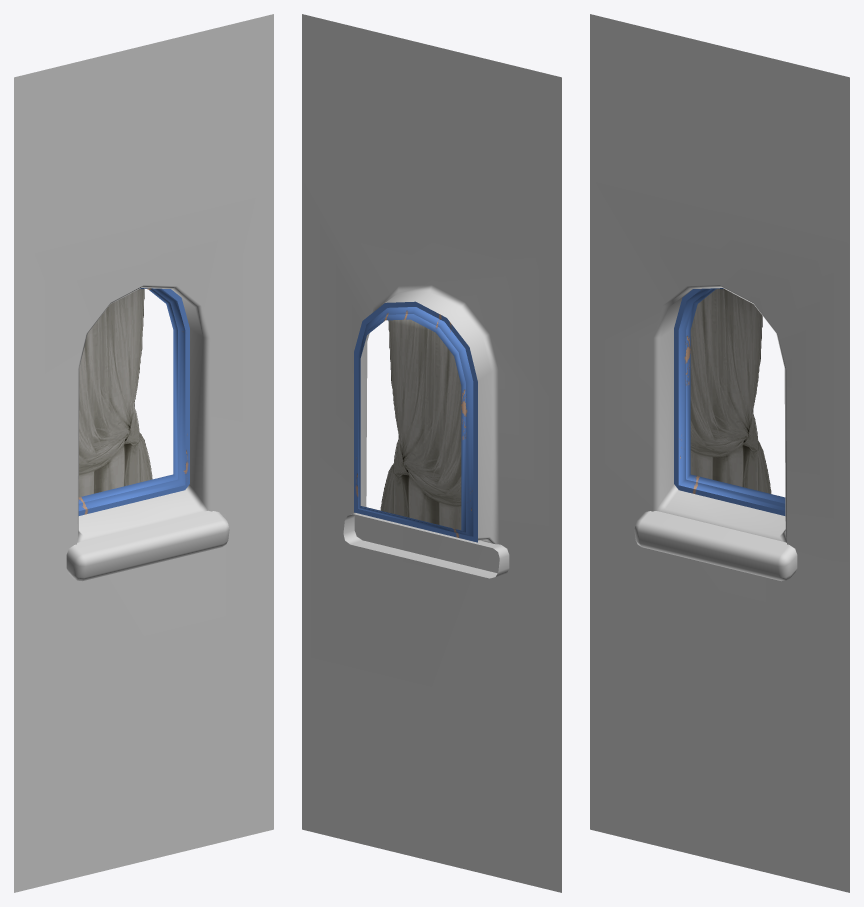
File: WallRoundedWindow.fbx
3 renders of one model, left to right at view 1: azimuth 30°, elevation 25°; view 2: azimuth 150°, elevation 25°; view 3: azimuth 330°, elevation 25°, orthographic.
Visible parts, largest first — view 1: WallRoundedWindow; view 2: WallRoundedWindow; view 3: WallRoundedWindow.
Part boxes in pixels (x1=…): WallRoundedWindow: x1=14, y1=14, x2=273, y2=892; WallRoundedWindow: x1=302, y1=14, x2=561, y2=892; WallRoundedWindow: x1=590, y1=14, x2=849, y2=892.
Bounding box in the file's own units: 100 × 300 × 22.08.
3 materials, 2 textured.
